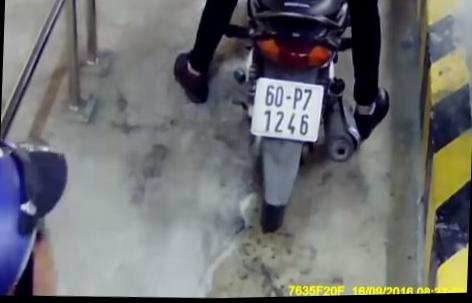LP: (249, 74, 327, 148)
